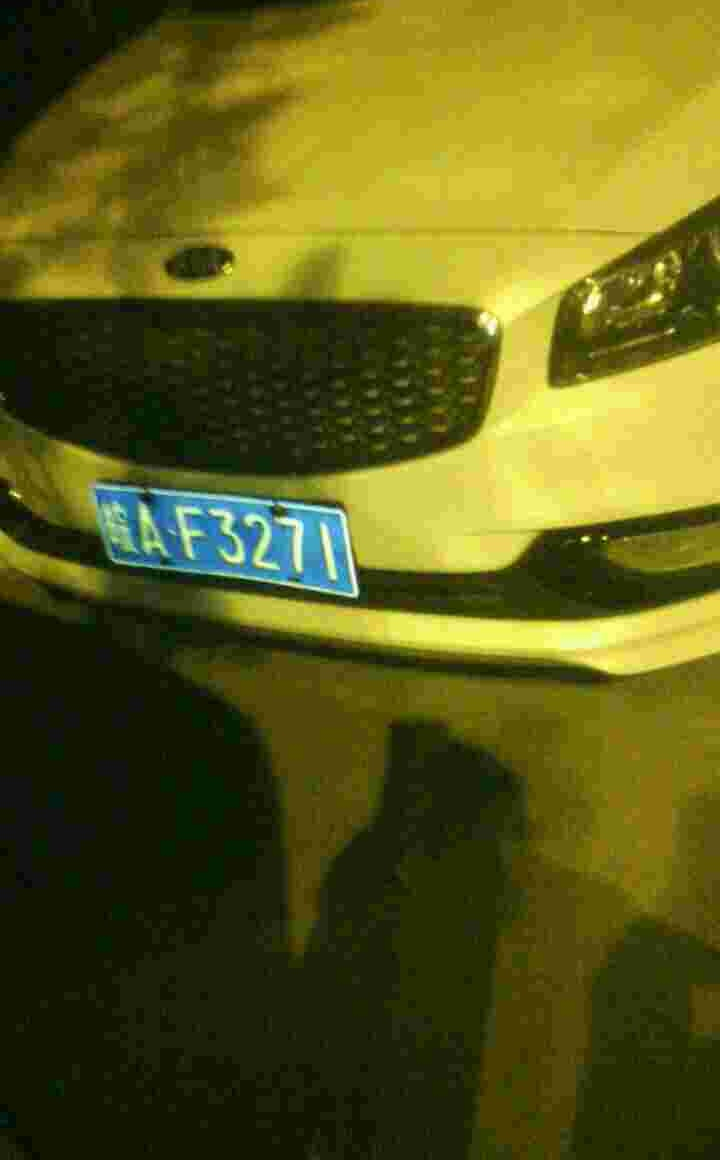license_plate: (89, 488, 345, 595)
